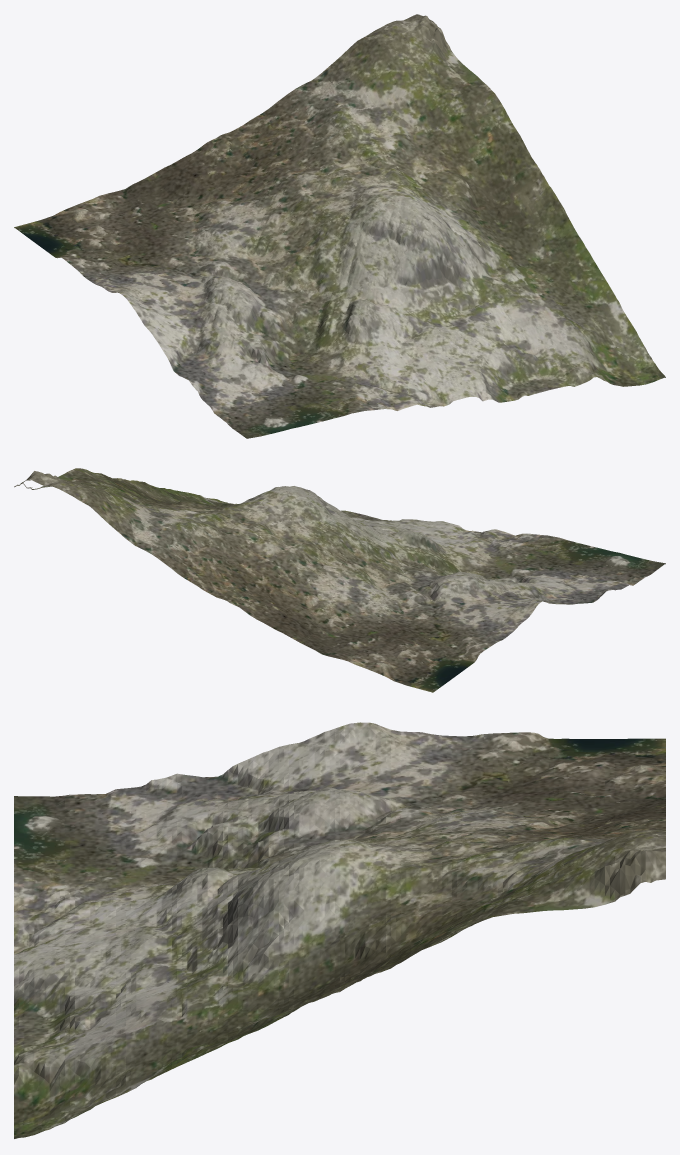
The picture shows the model from 3 angles, top to bottom: view 1: azimuth 30°, elevation 25°; view 2: azimuth 150°, elevation 25°; view 3: azimuth 270°, elevation 25°; orthographic projection. The views are drawn at different scales.
Bounding box in the file's own units: 500 × 231 × 481.
1 material, 1 textured.
